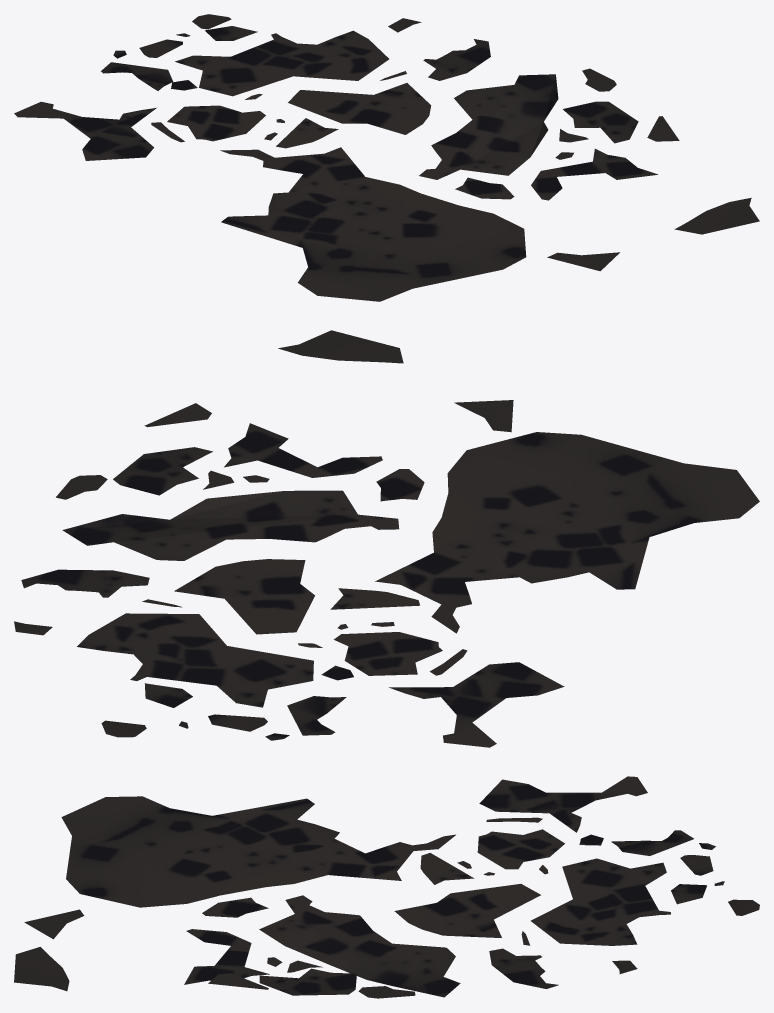
Rendered from Ground_05.FBX.
3 renders of one model, top to bottom at view 1: azimuth 30°, elevation 25°; view 2: azimuth 150°, elevation 25°; view 3: azimuth 270°, elevation 25°, orthographic. The views are drawn at different scales.
Parts seen in each view (by area): view 1: Ground_05; view 2: Ground_05; view 3: Ground_05.
Part boxes in pixels (box(x1,y1,x2,y2)): Ground_05: box(14, 14, 759, 301); Ground_05: box(14, 330, 759, 747); Ground_05: box(14, 776, 759, 998).
Size of the model in its own units: 17.31 by 0.8515 by 23.34.
